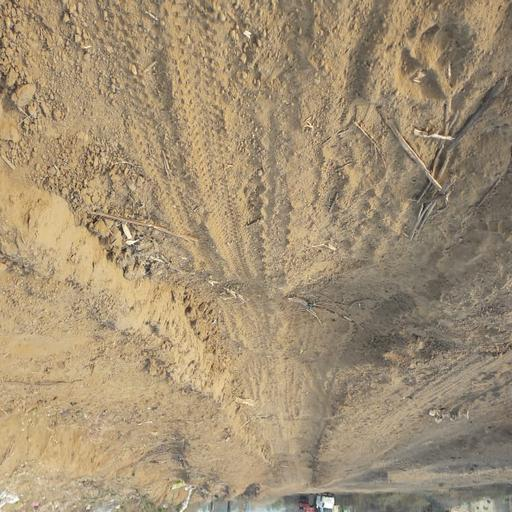vehicle_track: (85, 0, 512, 476)
